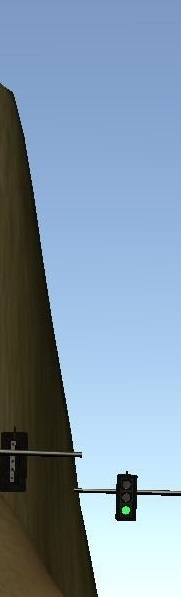Green: (115, 473, 139, 521)
